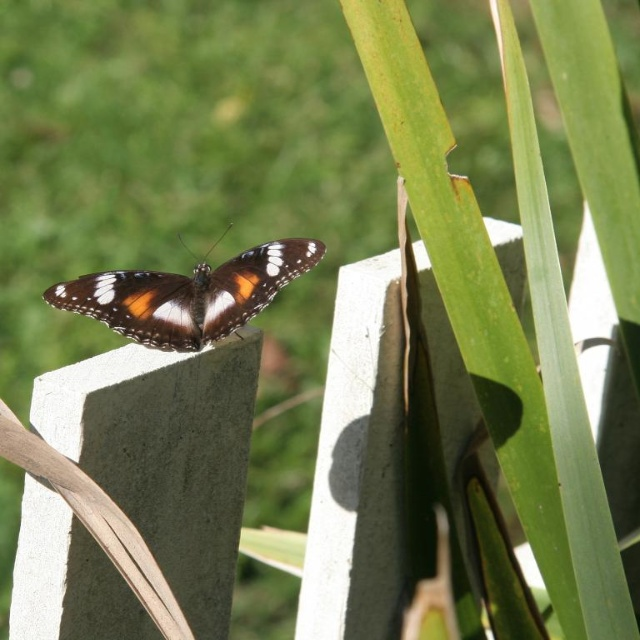Butterfly: (42, 222, 326, 352)
